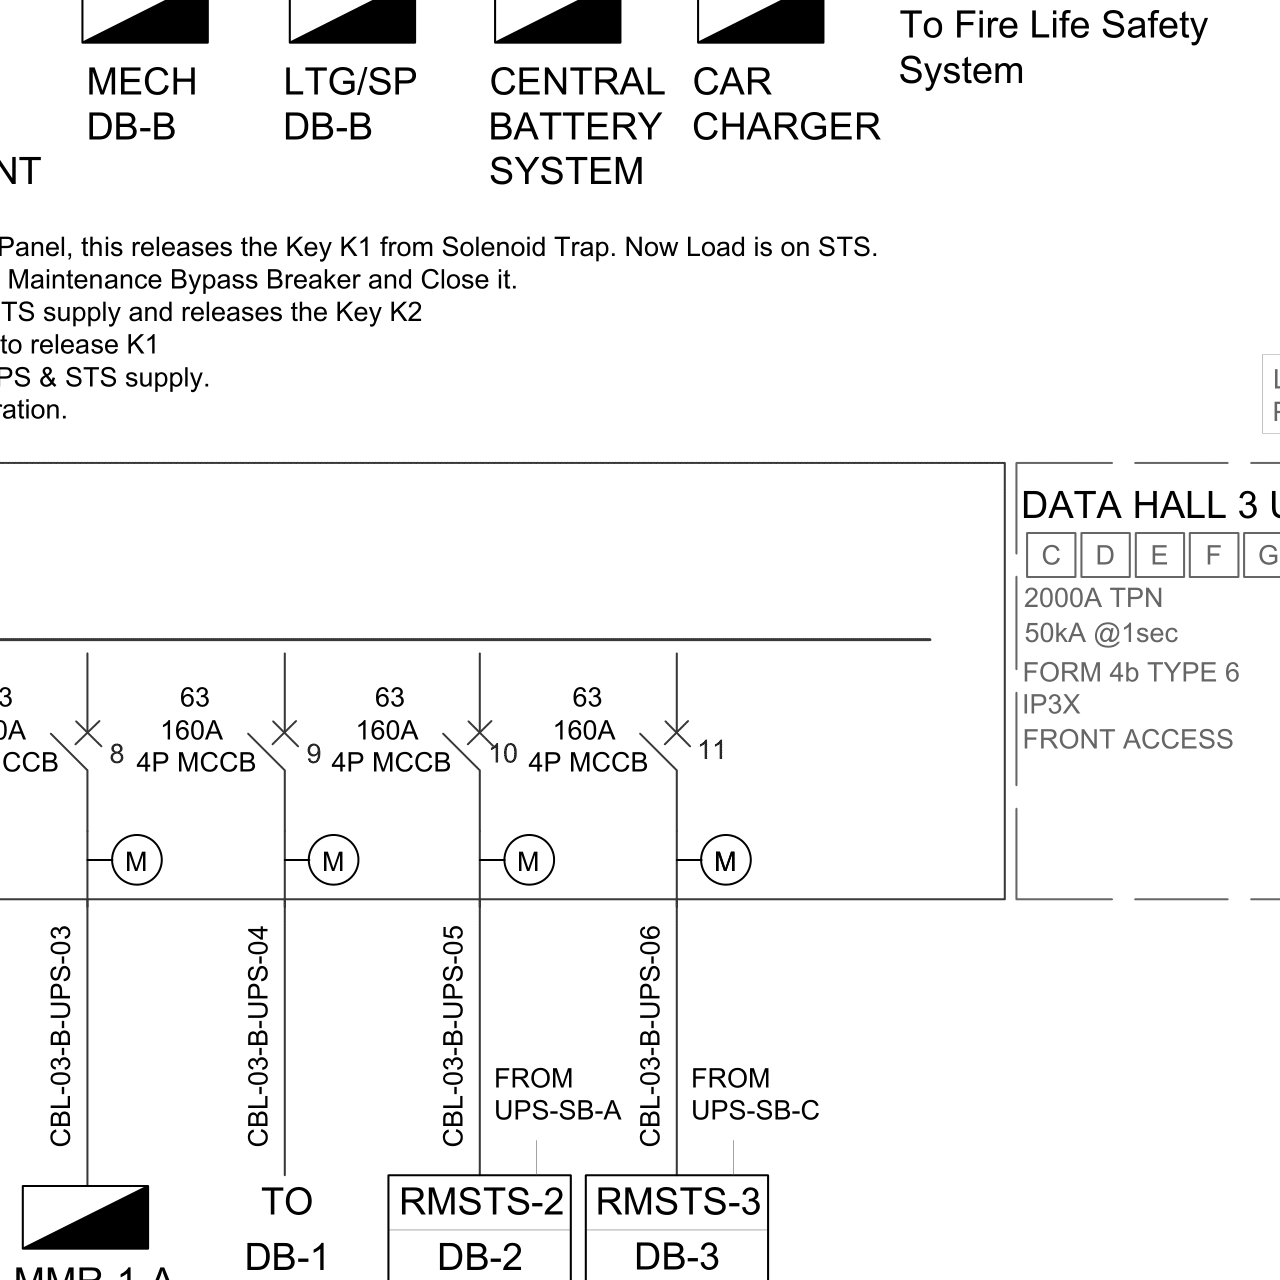Distribution Board: (12, 1179, 159, 1258)
